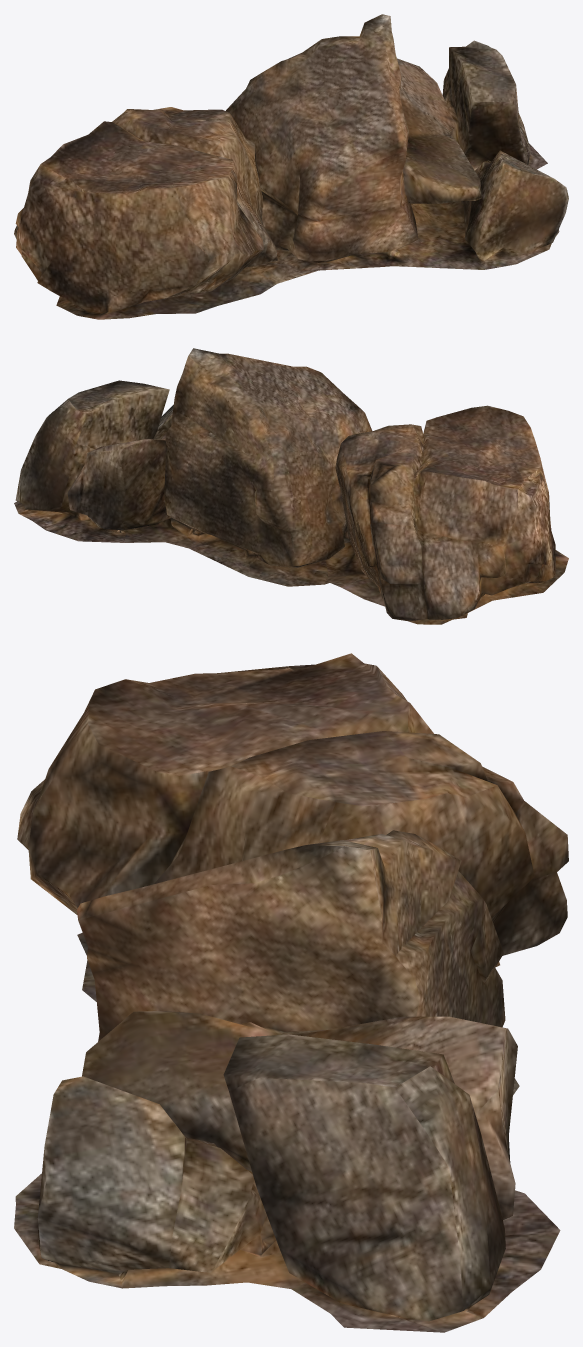
Rendered from boulder_02.glb.
3 views of the same model, one above another, from view 1: azimuth 30°, elevation 25°; view 2: azimuth 150°, elevation 25°; view 3: azimuth 270°, elevation 25° (orthographic). The views are drawn at different scales.
Parts seen in each view (by area): view 1: boulder_02; view 2: boulder_02; view 3: boulder_02.
Part boxes in pixels (x1,y1,x2,y2): boulder_02: [14, 14, 568, 319]; boulder_02: [14, 348, 568, 624]; boulder_02: [14, 653, 568, 1332].
Size of the model in its own units: 2.51 by 0.8788 by 1.23.
Materials: 1 (1 with a texture image).
